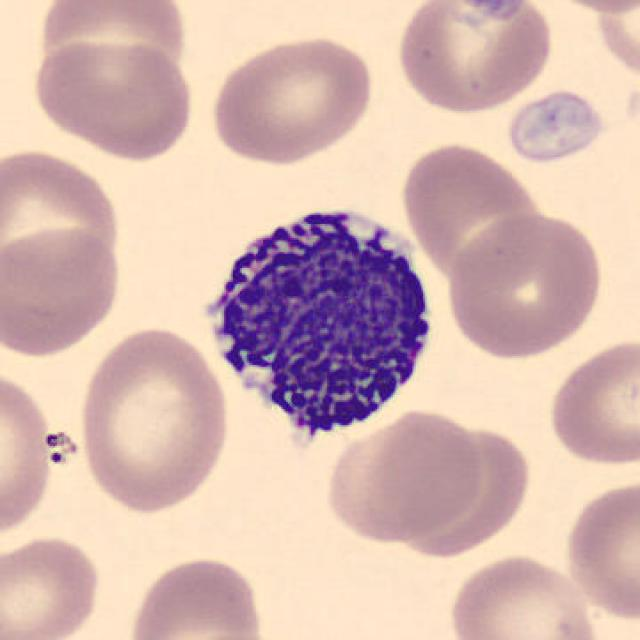Basophil: (188, 190, 448, 464)
Platelets: (453, 0, 529, 19)
RBC: (73, 321, 235, 516), (443, 208, 606, 361), (204, 30, 378, 167), (320, 404, 487, 546), (396, 137, 544, 286), (27, 35, 199, 162), (392, 0, 556, 116), (0, 142, 126, 292), (2, 224, 126, 361), (406, 430, 535, 560), (30, 2, 194, 102), (444, 550, 604, 640), (122, 552, 268, 640), (544, 333, 638, 469), (0, 530, 105, 640), (562, 476, 638, 622), (0, 365, 57, 547), (503, 86, 610, 166), (590, 2, 638, 83), (146, 627, 290, 640), (531, 0, 640, 16)
